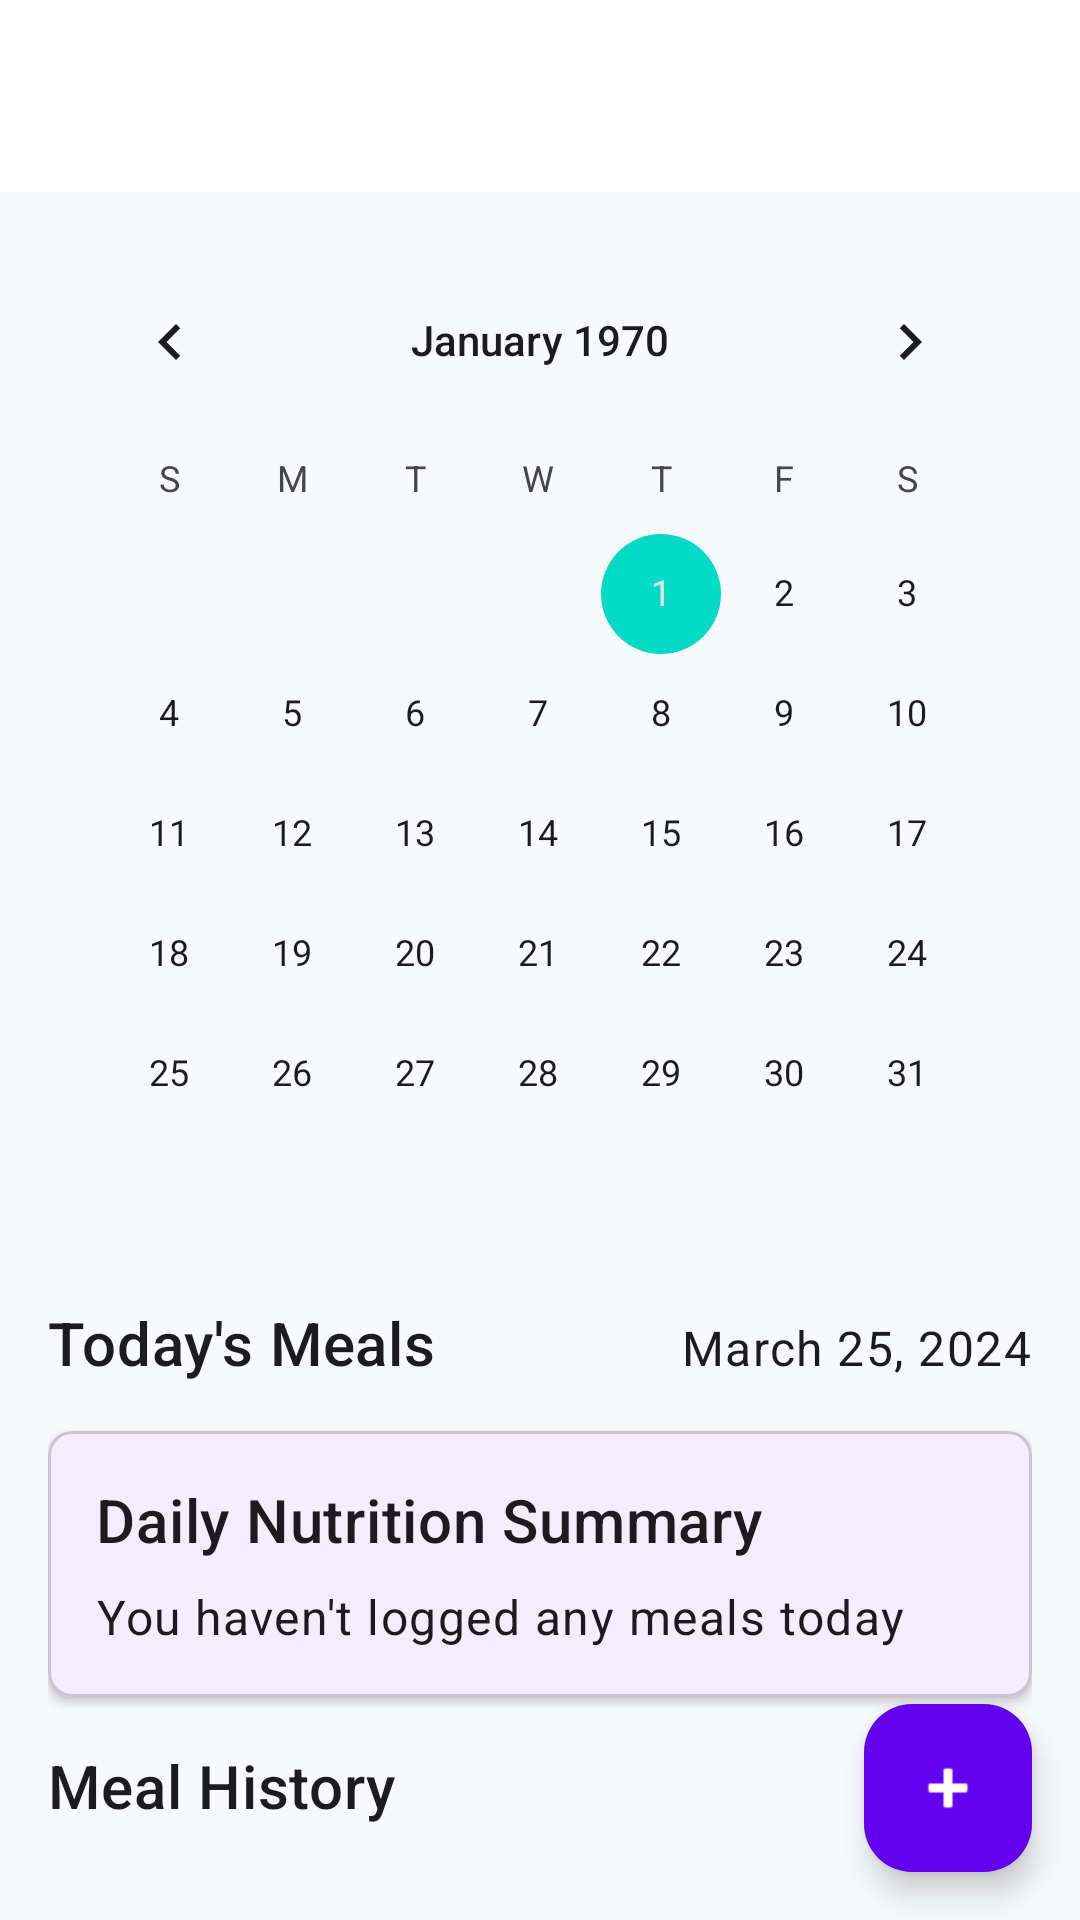

Icon bounding boxes for this 1080w x 1920h phone screenshot, format (x1, y1, x2, y2):
Add a new meal: (864, 1704, 1032, 1872)
